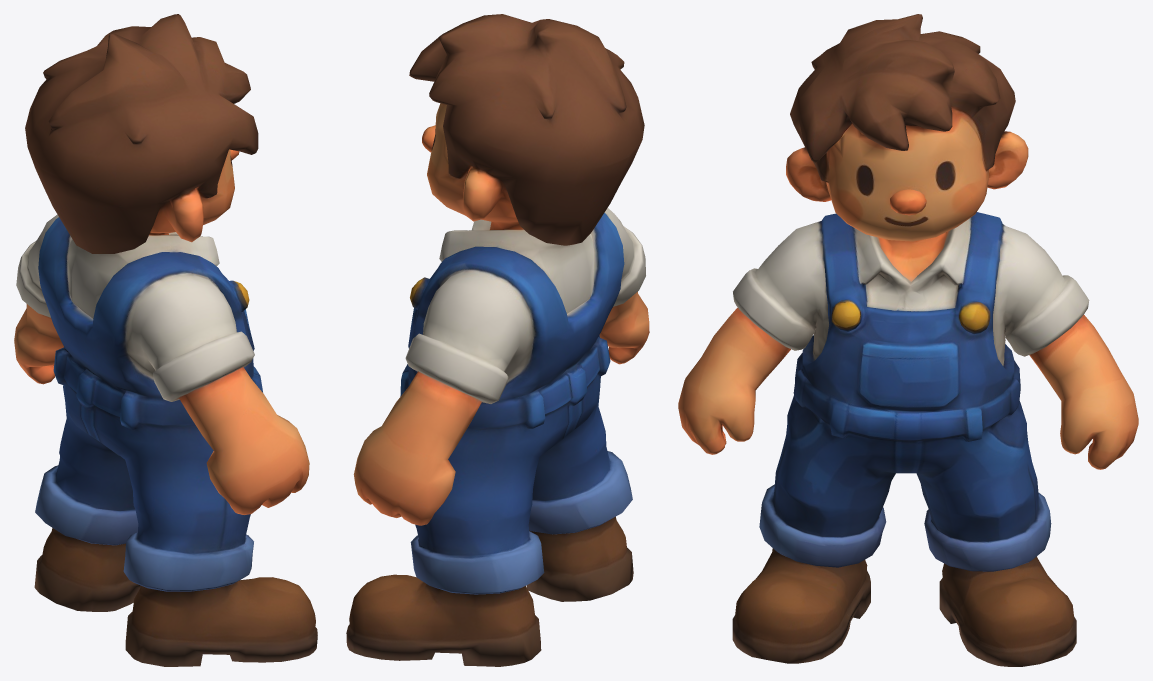
3 views of the same model, side by side, from view 1: azimuth 30°, elevation 25°; view 2: azimuth 150°, elevation 25°; view 3: azimuth 270°, elevation 25° (orthographic).
Parts seen in each view (by area): view 1: tripo_node_12eb0e41-1f83-4c89-a2dd-71152aa1eb72; view 2: tripo_node_12eb0e41-1f83-4c89-a2dd-71152aa1eb72; view 3: tripo_node_12eb0e41-1f83-4c89-a2dd-71152aa1eb72.
Boxes of the visible parts, x1,y1,x2,y2 form: tripo_node_12eb0e41-1f83-4c89-a2dd-71152aa1eb72: [14, 14, 317, 666]; tripo_node_12eb0e41-1f83-4c89-a2dd-71152aa1eb72: [346, 14, 649, 666]; tripo_node_12eb0e41-1f83-4c89-a2dd-71152aa1eb72: [678, 14, 1138, 666].
Size of the model in its own units: 0.3809 by 0.998 by 0.709.
1 material, 1 textured.
